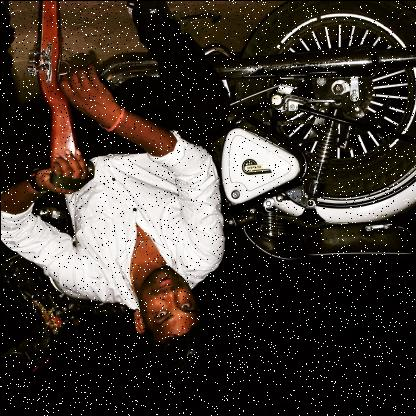rifle: (23, 1, 95, 178)
